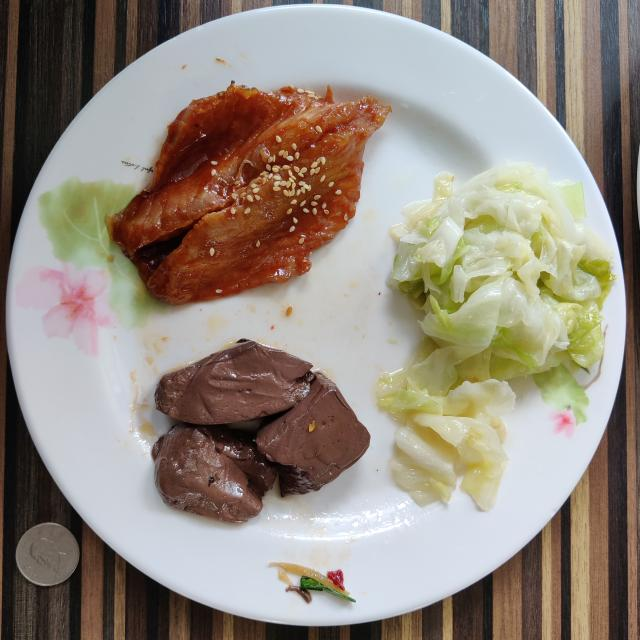Kabayaki sea bream fillet: (108, 84, 390, 305)
cabbage: (378, 162, 615, 511)
coin: (16, 522, 79, 586)
pig blood curd: (152, 340, 370, 522)
